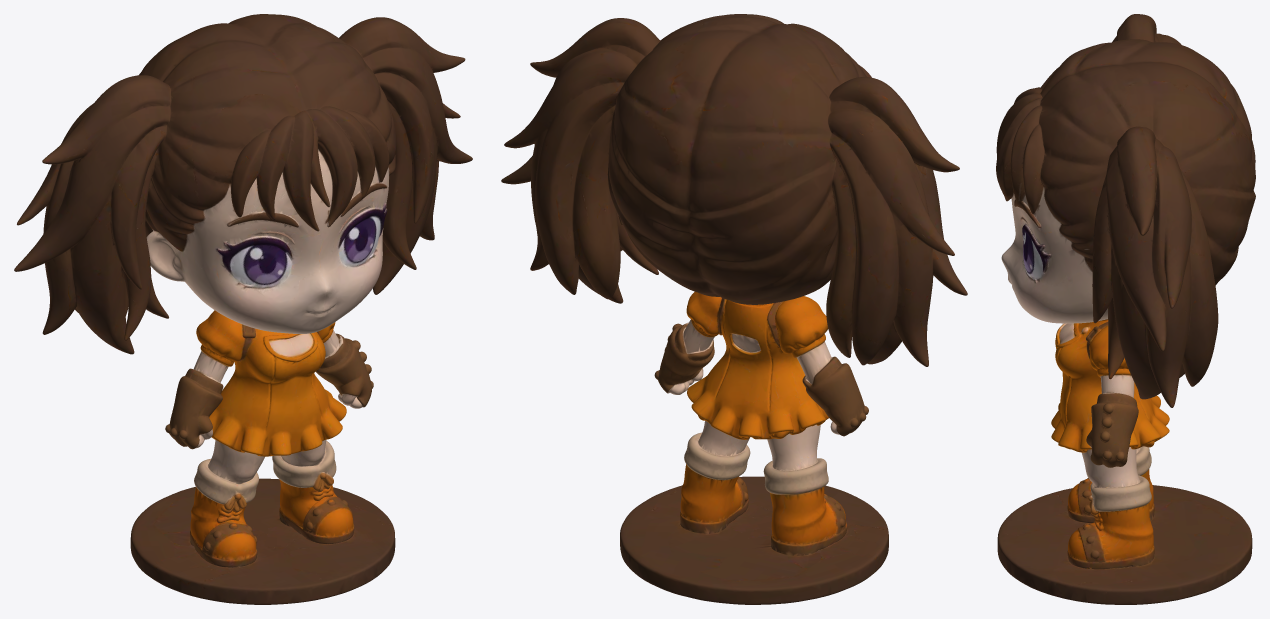
The model's file is guerrera-gigante-chibi-b.glb.
3 renders of one model, left to right at view 1: azimuth 30°, elevation 25°; view 2: azimuth 150°, elevation 25°; view 3: azimuth 270°, elevation 25°, orthographic. The views are drawn at different scales.
Size of the model in its own units: 1.78 by 1.9 by 0.9068.
Materials: 1 (1 with a texture image).
